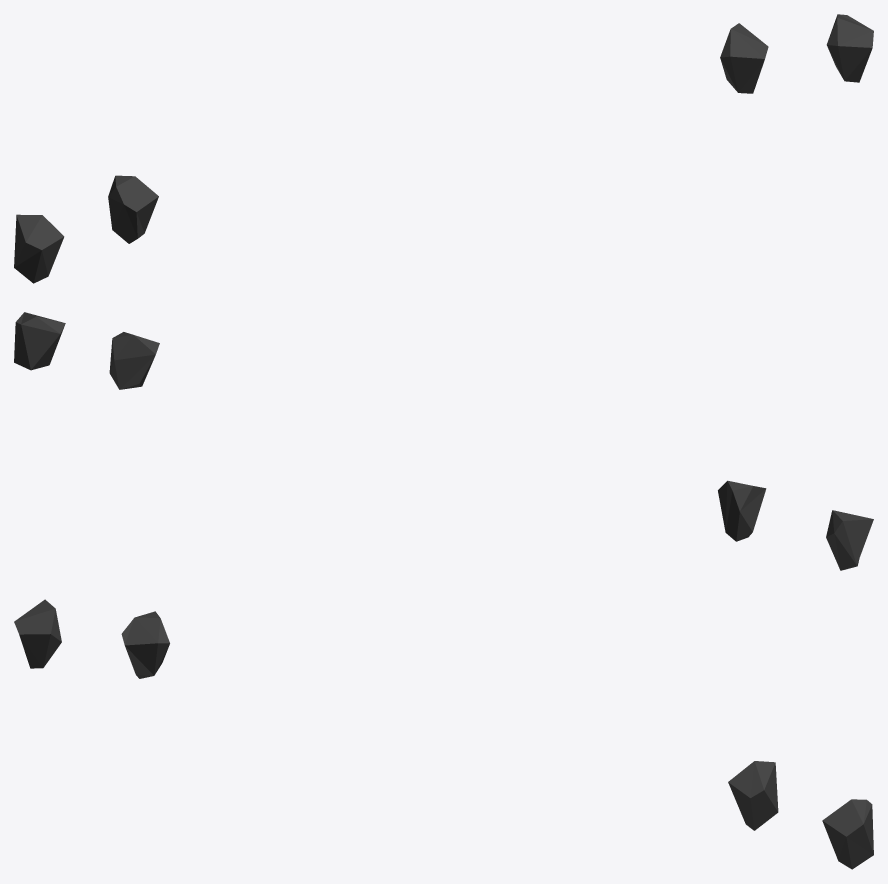
Rendered from Sesamoids_fabellae.glb.
The picture shows the model from 3 angles, top to bottom: view 1: azimuth 30°, elevation 25°; view 2: azimuth 150°, elevation 25°; view 3: azimuth 330°, elevation 25°; orthographic projection.
Parts seen in each view (by area): view 1: Sesamoids_fabellae; view 2: Sesamoids_fabellae; view 3: Sesamoids_fabellae.
Part boxes in pixels (box(x1,y1,x2,y2)): Sesamoids_fabellae: box(14, 14, 873, 283); Sesamoids_fabellae: box(14, 312, 873, 570); Sesamoids_fabellae: box(14, 599, 873, 869).
Bounding box in the file's own units: 0.00525 × 0.000414 × 0.000351.
Materials: 1 (1 with a texture image).
